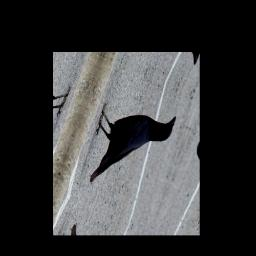Crow: (78, 85, 178, 209)
